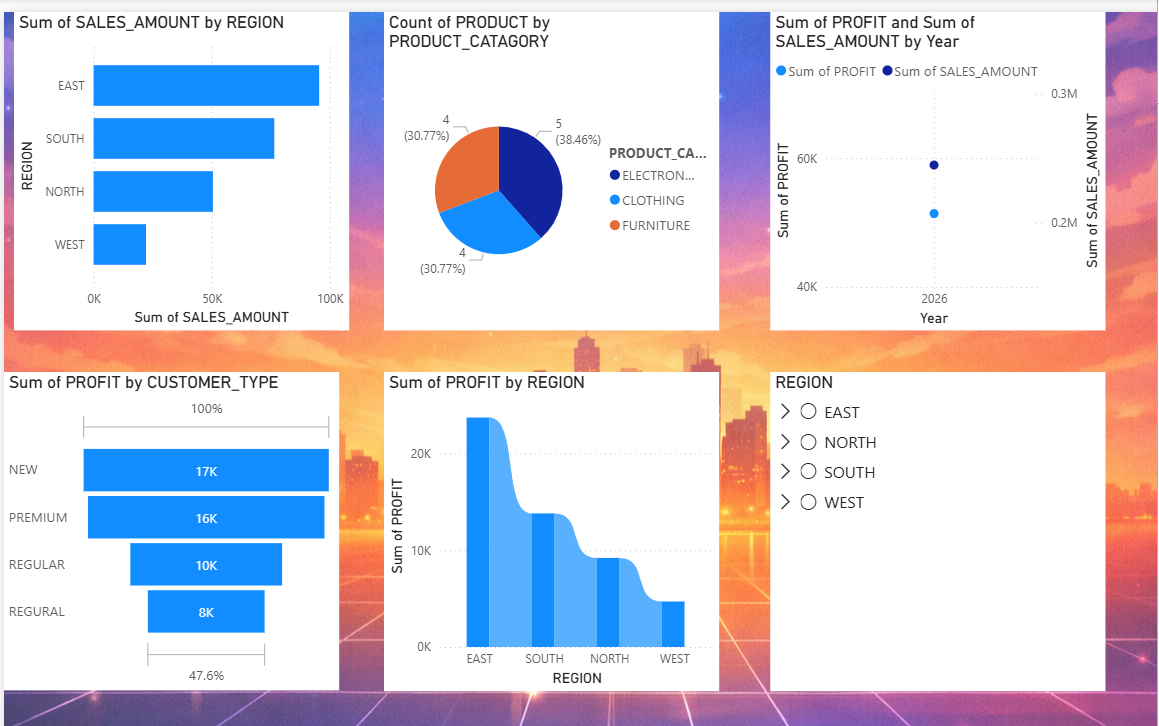

The dashboard page shown, as its layout file describes it:
{"tool":"powerbi","page":{"name":"Page 1","canvas":[1280,720],"ordinal":0},"visuals":[{"type":"clusteredBarChart","fields":{"Category":["Table.REGION"],"Y":["Sum(Table.SALES_AMOUNT)"]},"box":[10,0,335,318.8],"z":0},{"type":"pieChart","fields":{"Category":["Table.PRODUCT_CATAGORY"],"Y":["CountNonNull(Table.PRODUCT)"]},"box":[380,0,335,318.8],"z":2},{"type":"lineChart","fields":{"Category":["Table.DATE.Variation.Date Hierarchy.Year","Table.DATE.Variation.Date Hierarchy.Quarter","Table.DATE.Variation.Date Hierarchy.Month","Table.DATE.Variation.Date Hierarchy.Day"],"Y":["Sum(Table.PROFIT)"],"Y2":["Sum(Table.SALES_AMOUNT)"]},"box":[766.2,0,335,318.8],"z":3},{"type":"funnel","fields":{"Category":["Table.CUSTOMER_TYPE"],"Y":["Sum(Table.PROFIT)"]},"box":[0,360,335,318.8],"z":4},{"type":"ribbonChart","fields":{"Category":["Table.REGION"],"Y":["Sum(Table.PROFIT)"]},"box":[380,360,335,319],"z":5},{"type":"listSlicer","fields":{"Values":["Table.REGION","Table.PRODUCT_CATAGORY","Table.PAYMENT_MODE","Table.CUSTOMER_TYPE","Table.DATE.Variation.Date Hierarchy.Year","Table.DATE.Variation.Date Hierarchy.Quarter","Table.DATE.Variation.Date Hierarchy.Month","Table.DATE.Variation.Date Hierarchy.Day"]},"box":[766,360,335,319],"z":6}]}

Visuals, with their boxes in screenshot pixels (x1, y1, x2, y2):
clusteredBarChart - Table.REGION x Sum(Table.SALES_AMOUNT): select_region(63, 103, 351, 377)
pieChart - Table.PRODUCT_CATAGORY x CountNonNull(Table.PRODUCT): select_region(382, 103, 670, 377)
lineChart - Table.DATE.Variation.Date Hierarchy.Year x Table.DATE.Variation.Date Hierarchy.Quarter: select_region(714, 103, 1003, 377)
funnel - Table.CUSTOMER_TYPE x Sum(Table.PROFIT): select_region(54, 413, 343, 687)
ribbonChart - Table.REGION x Sum(Table.PROFIT): select_region(382, 413, 670, 687)
listSlicer - Table.REGION x Table.PRODUCT_CATAGORY: select_region(714, 413, 1003, 687)
